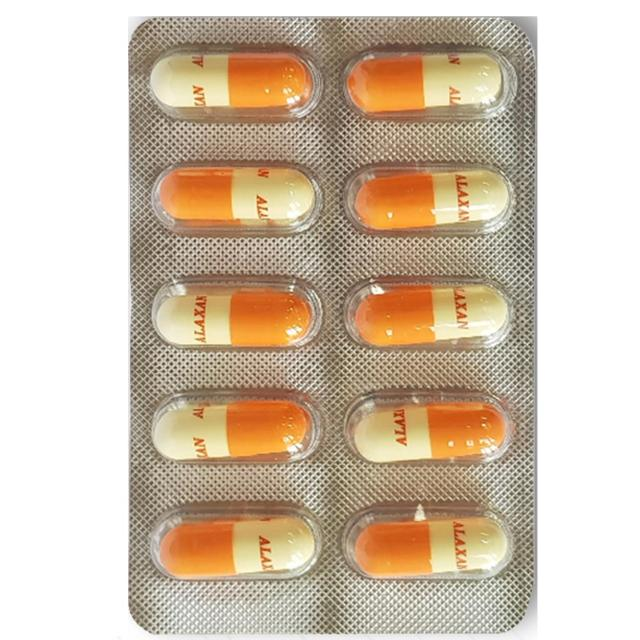blister: (120, 13, 540, 637)
